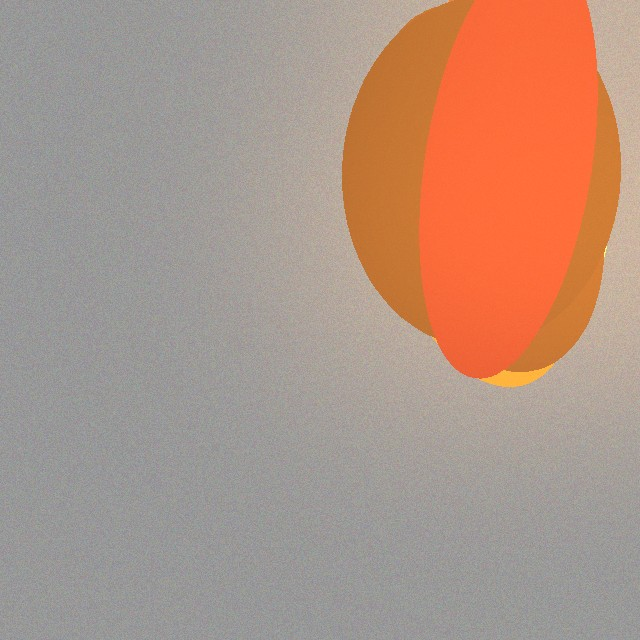fire: (406, 74, 578, 346)
